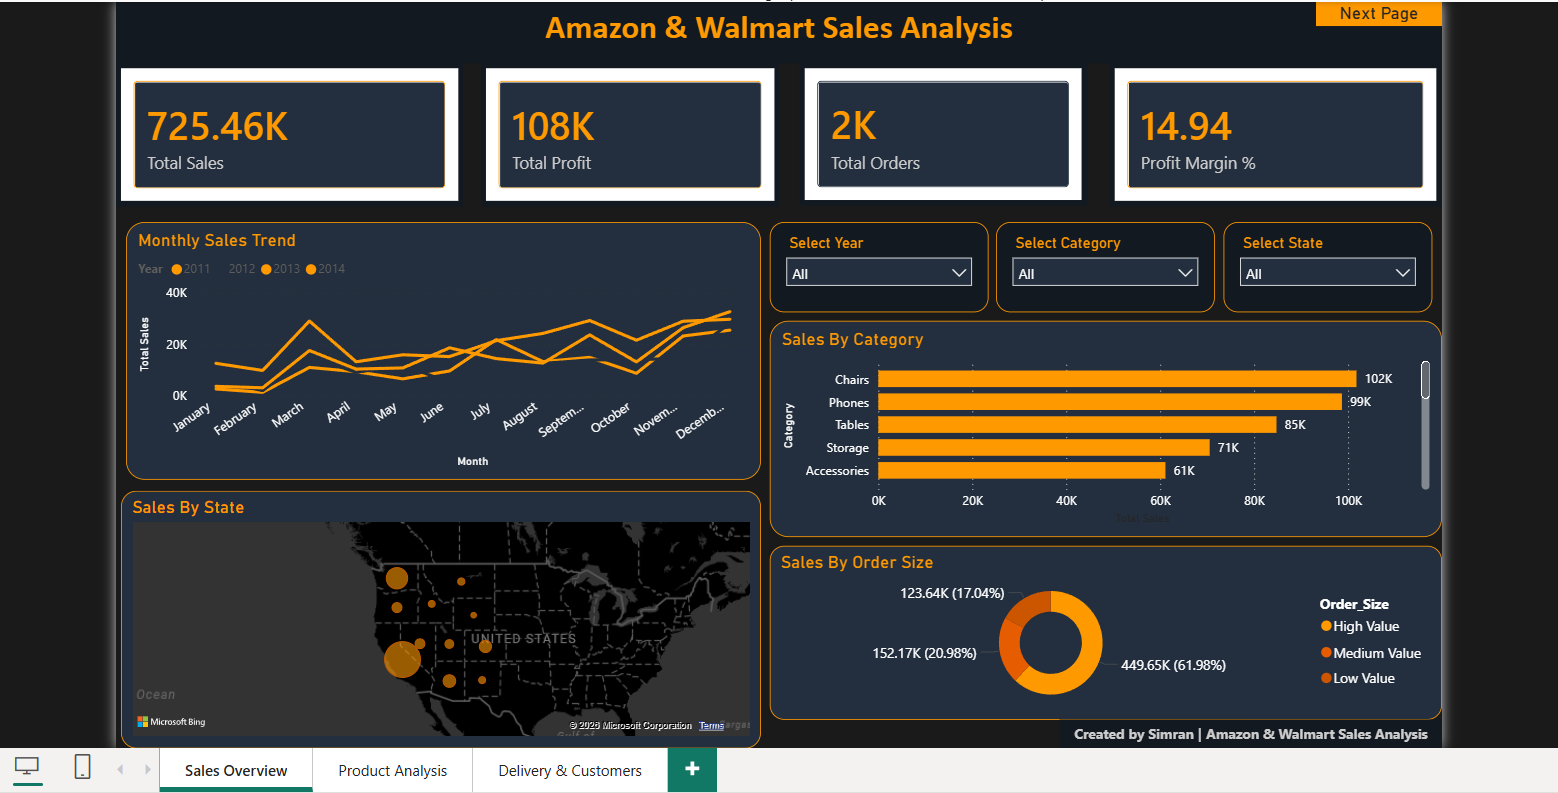

Layout of this report page (visuals, bound fields, positions):
{"tool":"powerbi","page":{"name":"Sales Overview","canvas":[1280,720],"ordinal":0},"visuals":[{"type":"textbox","box":[0,0,1280,59.1],"z":0},{"type":"cardVisual","fields":{"Data":["WORKING DATA.Total Sales"]},"box":[0,59.1,335.4,138.7],"z":1000},{"type":"cardVisual","fields":{"Data":["WORKING DATA.Total Profit"]},"box":[352.3,59.1,288.3,138.7],"z":2000},{"type":"cardVisual","fields":{"Data":["WORKING DATA.Total Orders"]},"box":[659.9,59.1,277.5,137.5],"z":3000},{"type":"cardVisual","fields":{"Data":["WORKING DATA.Profit Margin %"]},"box":[959.1,59.1,320.9,138.7],"z":4000},{"type":"lineChart","title":"Monthly Sales Trend","fields":{"Category":["WORKING DATA.Month_col.Variation.Date Hierarchy.Month"],"Y":["WORKING DATA.Total Sales"],"Series":["WORKING DATA.Month_col.Variation.Date Hierarchy.Year"]},"box":[9.7,212.3,612.9,248.5],"z":5000},{"type":"clusteredBarChart","title":"Sales By Category","fields":{"Category":["WORKING DATA.Category"],"Y":["WORKING DATA.Total Sales"]},"box":[631,307.6,649.1,208.7],"z":6000},{"type":"map","title":"Sales By State","fields":{"Category":["WORKING DATA.State_Name"],"Size":["WORKING DATA.Total Sales"]},"box":[4.8,471.7,617.7,248.5],"z":7000},{"type":"donutChart","title":"Sales By Order Size","fields":{"Category":["WORKING DATA.Order_Size"],"Y":["WORKING DATA.Total Sales"]},"box":[631,524.8,649.1,167.7],"z":8000},{"type":"slicer","fields":{"Values":["WORKING DATA.Year_col"]},"box":[631,212.3,211.1,86.9],"z":9000},{"type":"slicer","fields":{"Values":["WORKING DATA.Category"]},"box":[849.3,212.3,211.1,86.9],"z":10000},{"type":"slicer","fields":{"Values":["WORKING DATA.State_Name"]},"box":[1068.9,212.3,201.5,86.9],"z":11000},{"type":"actionButton","title":"Next Page","box":[1158.2,0,121.9,22.9],"z":12000},{"type":"textbox","box":[910.9,692.5,369.2,27.7],"z":13000}]}

Visuals, with their boxes on the page's 1280x720 design canvas (x1, y1, x2, y2). These are canvas units, not pixel positions in the 1558x793 screenshot, which may show the page scaled, cropped or inside an application window:
textbox: (0,0,1280,59)
cardVisual - WORKING DATA.Total Sales: (0,59,335,198)
cardVisual - WORKING DATA.Total Profit: (352,59,641,198)
cardVisual - WORKING DATA.Total Orders: (660,59,937,197)
cardVisual - WORKING DATA.Profit Margin %: (959,59,1280,198)
"Monthly Sales Trend" lineChart: (10,212,623,461)
"Sales By Category" clusteredBarChart: (631,308,1280,516)
"Sales By State" map: (5,472,622,720)
"Sales By Order Size" donutChart: (631,525,1280,692)
slicer - WORKING DATA.Year_col: (631,212,842,299)
slicer - WORKING DATA.Category: (849,212,1060,299)
slicer - WORKING DATA.State_Name: (1069,212,1270,299)
"Next Page" actionButton: (1158,0,1280,23)
textbox: (911,692,1280,720)
